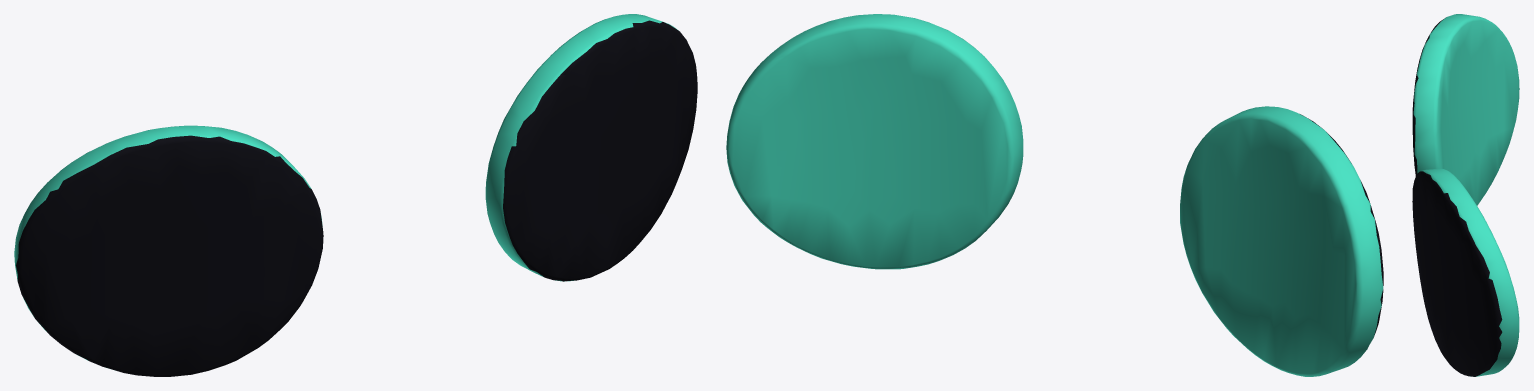
The model's file is eyes-bead.glb.
3 renders of one model, left to right at view 1: azimuth 30°, elevation 25°; view 2: azimuth 150°, elevation 25°; view 3: azimuth 270°, elevation 25°, orthographic. The views are drawn at different scales.
Visible parts, largest first — view 1: eyes-bead; view 2: eyes-bead; view 3: eyes-bead.
Boxes of the visible parts, box(x1,y1,x2,y2) form: eyes-bead: box(14, 14, 697, 376); eyes-bead: box(726, 14, 1383, 376); eyes-bead: box(1412, 14, 1519, 376).
Bounding box in the file's own units: 0.4869 × 0.1701 × 0.0889.
